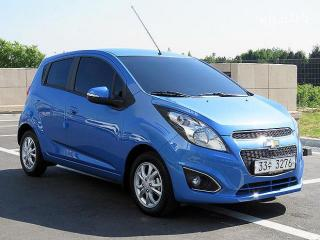2: (280, 158, 284, 168)
3: (263, 161, 268, 171), (259, 161, 263, 171), (276, 158, 280, 168)
6: (288, 157, 293, 166)
7: (284, 158, 288, 168)
수: (268, 160, 272, 169)
